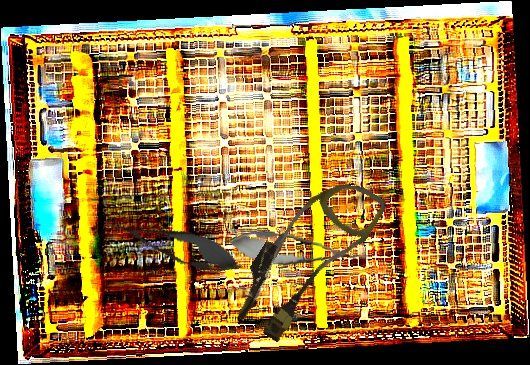Cannula: (223, 158, 390, 354)
Micro Scissor: (97, 205, 249, 284), (222, 224, 374, 276)
